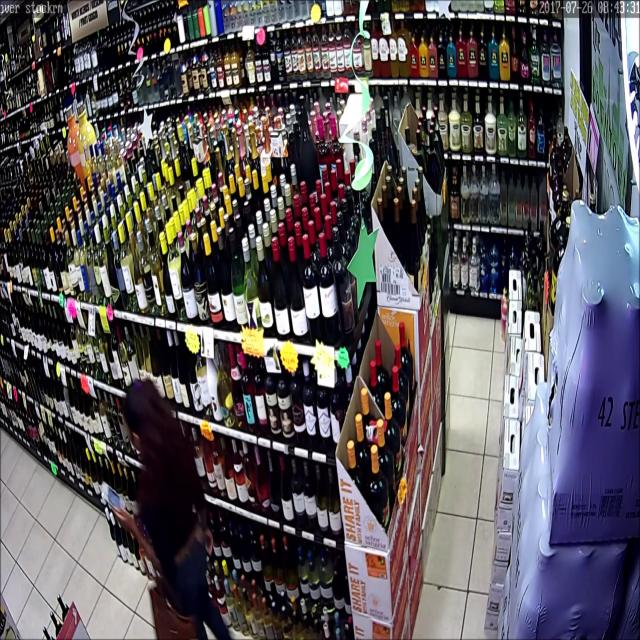normal: (88, 355, 222, 640)
